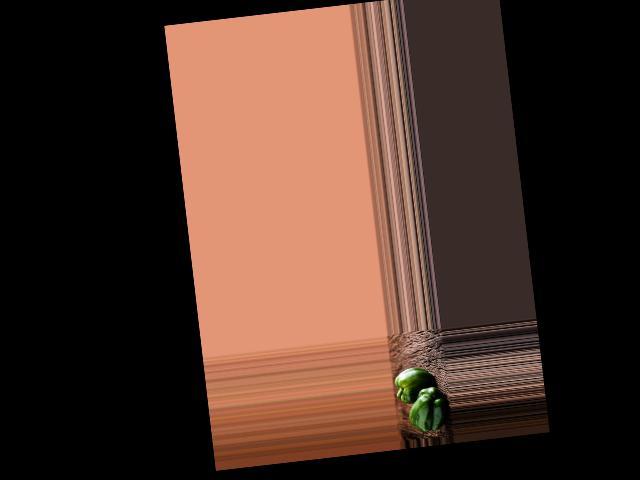bell_pepper: (405, 383, 447, 433)
